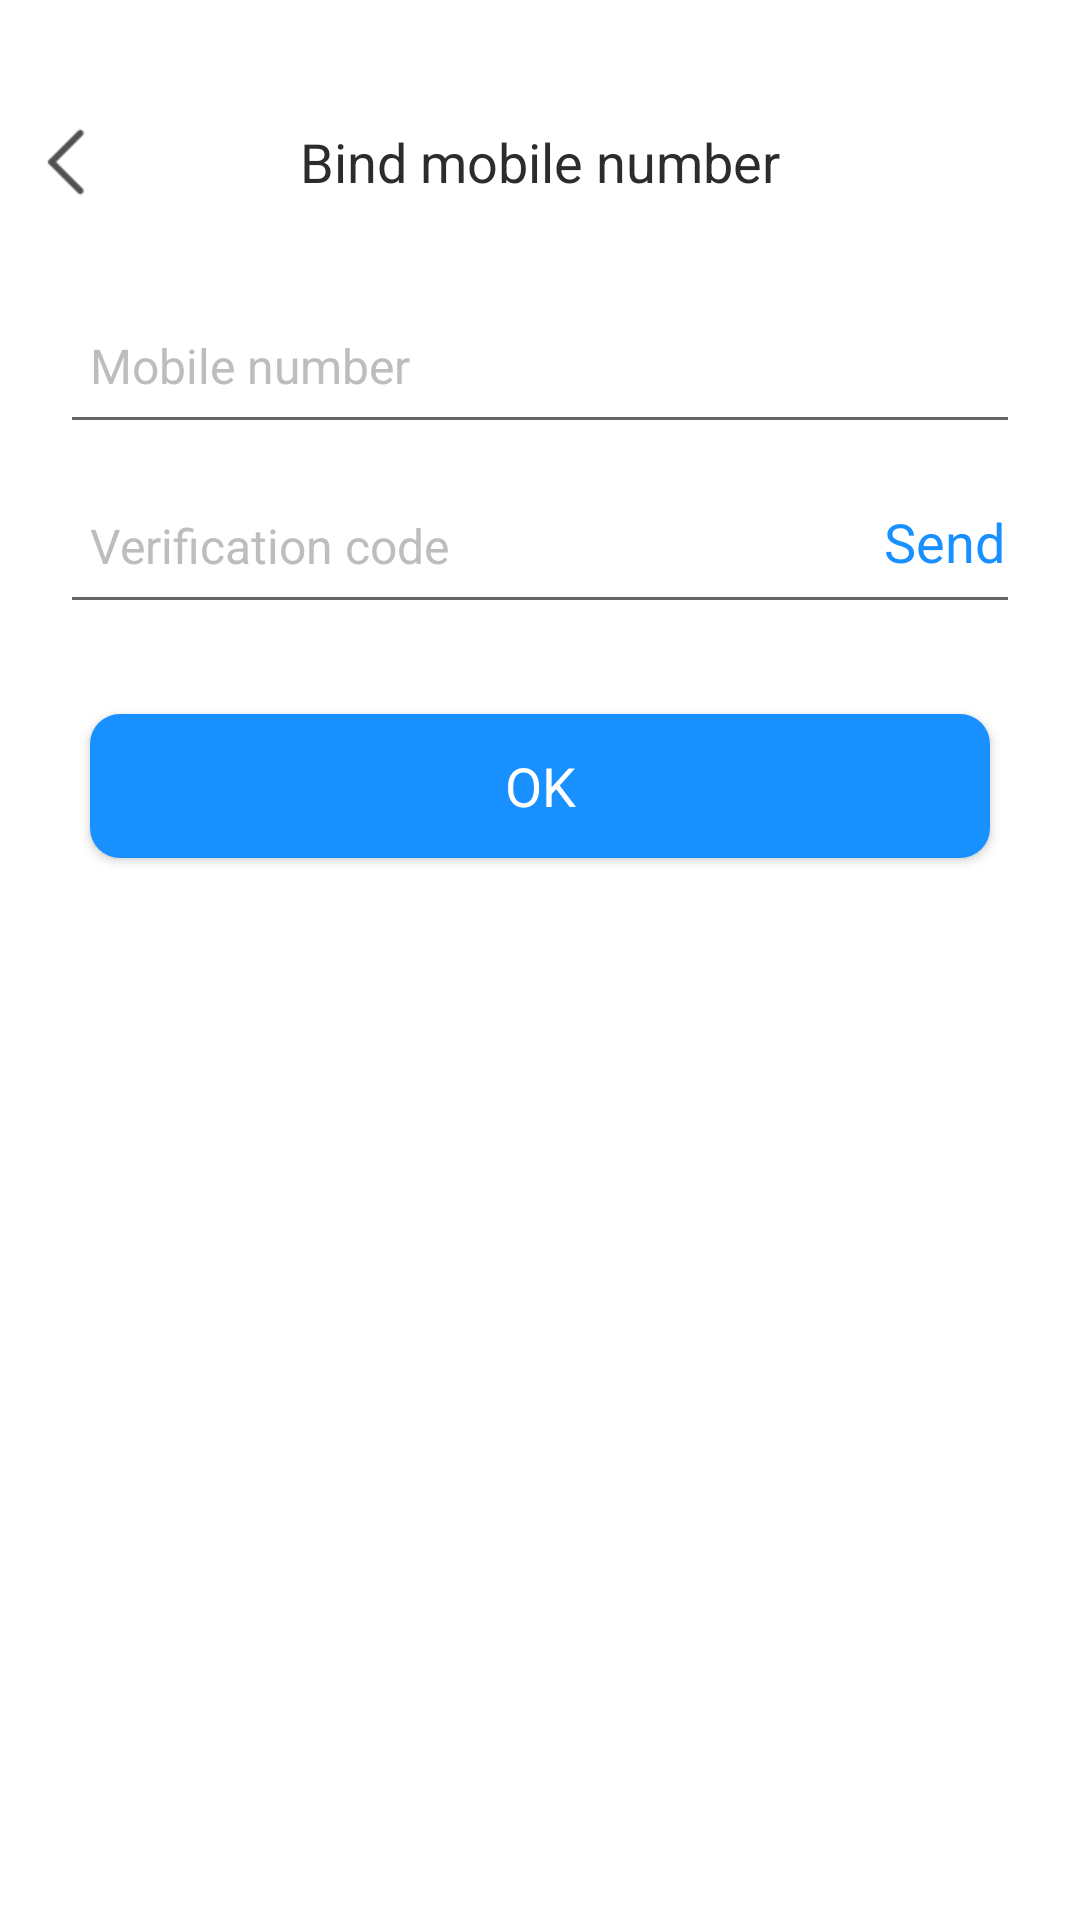

Icon bounding boxes for this 1080x1920 phone screenshot, format (x1, y1, x2, y2):
back: (47, 129, 84, 195)
